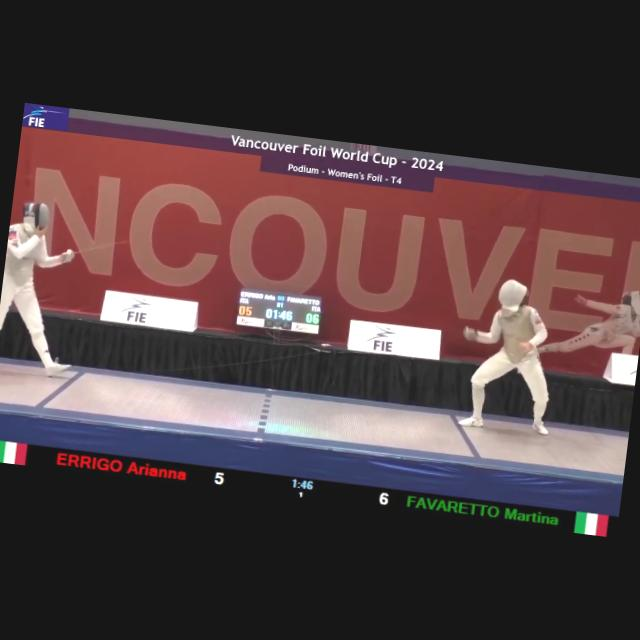blade: (66, 229, 144, 268)
